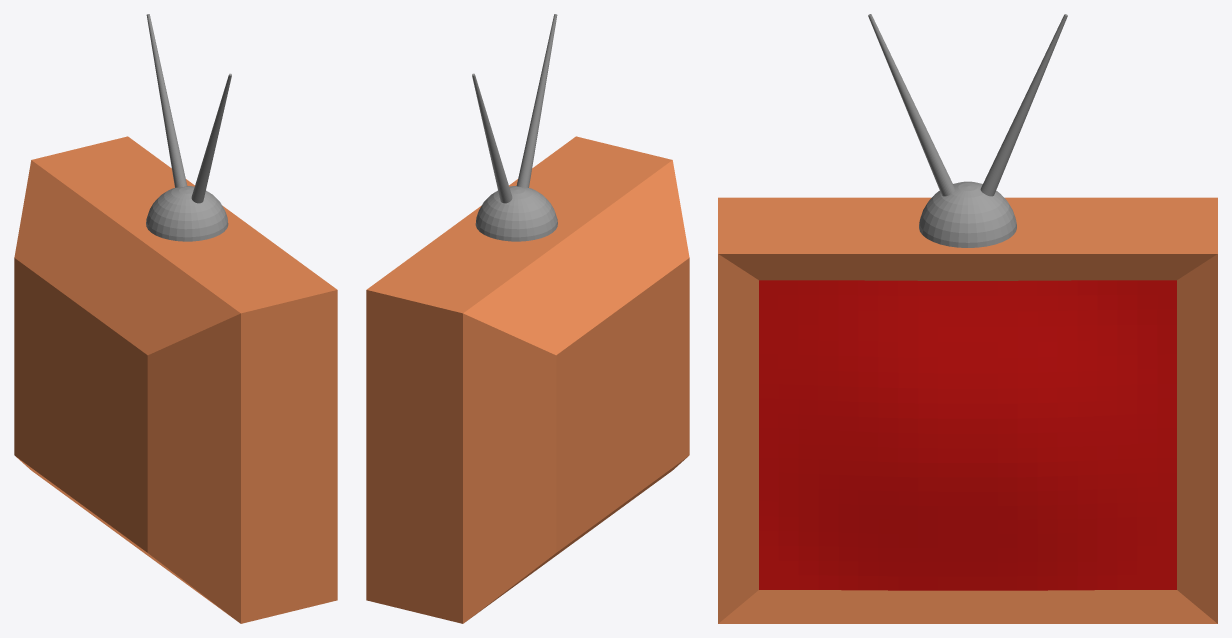
The model's file is телик.fbx.
3 renders of one model, left to right at view 1: azimuth 30°, elevation 25°; view 2: azimuth 150°, elevation 25°; view 3: azimuth 270°, elevation 25°, orthographic. The views are drawn at different scales.
Parts seen in each view (by area): view 1: Cube; view 2: Cube; view 3: Cube.
Part boxes in pixels (bbox=[...]): Cube: bbox=[14, 14, 337, 623]; Cube: bbox=[366, 14, 689, 623]; Cube: bbox=[718, 14, 1217, 623].
Size of the model in its own units: 105 by 316 by 245.
